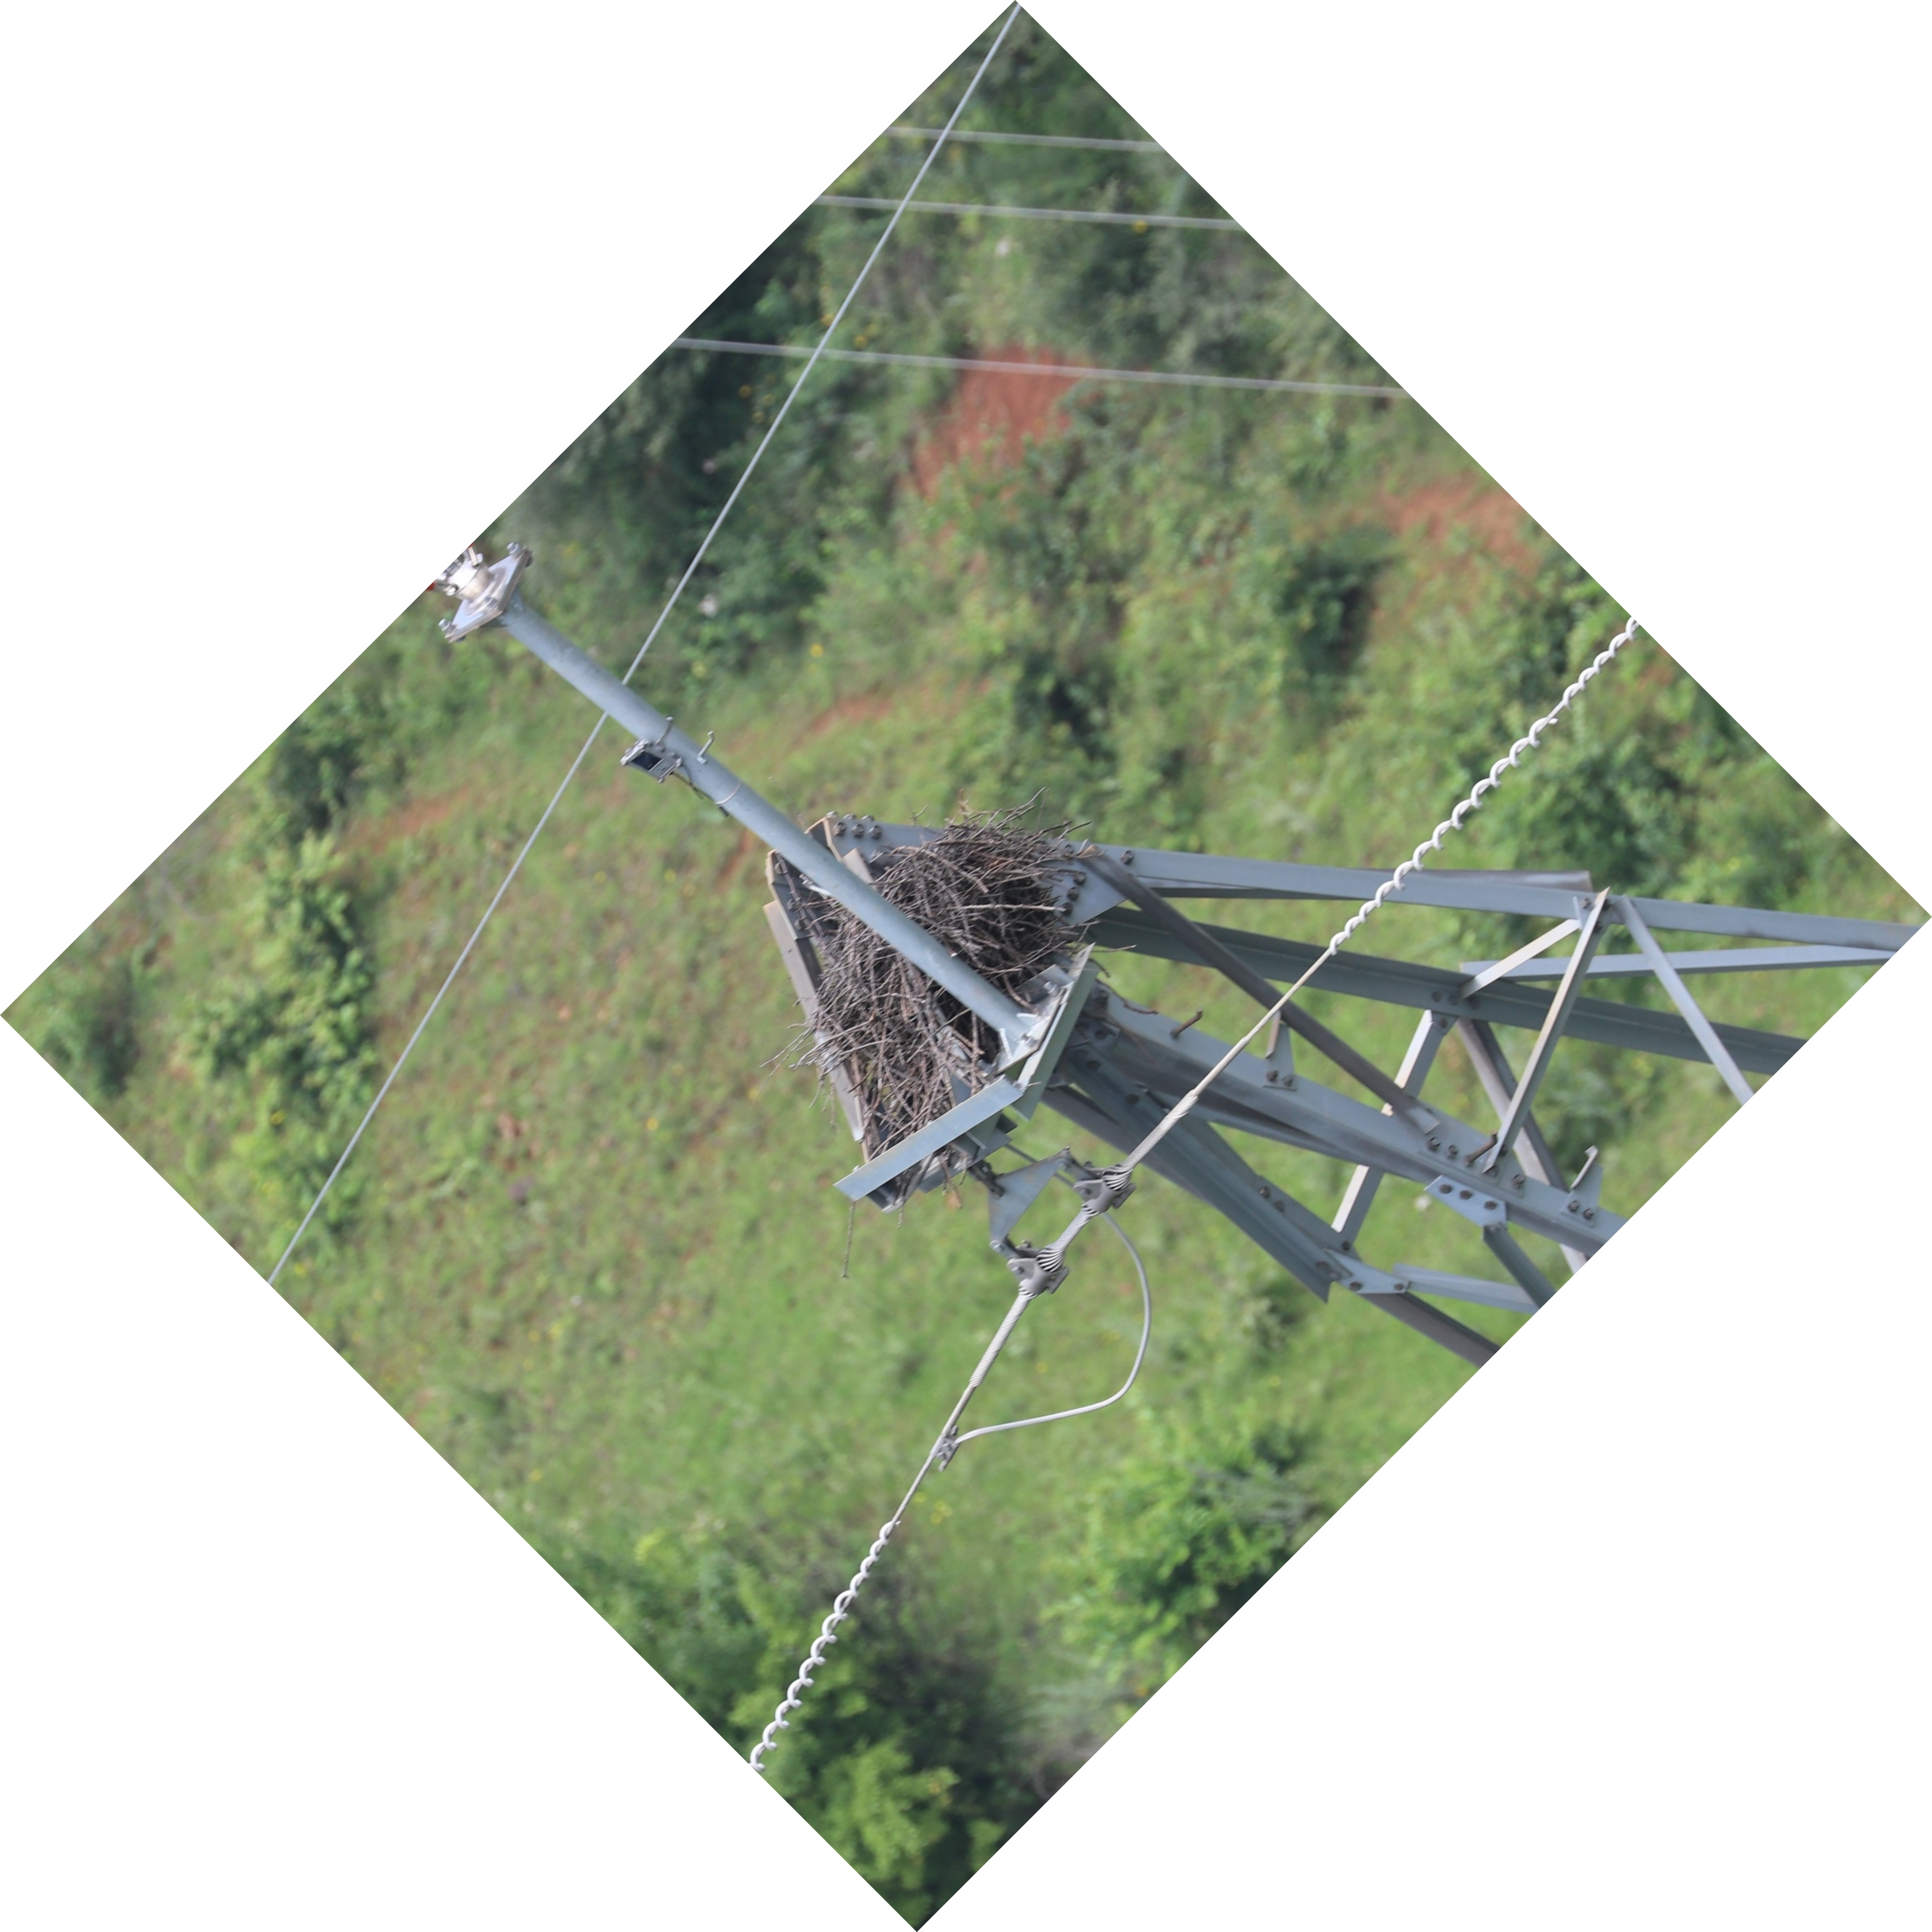niaowo: (740, 793, 1109, 1136)
